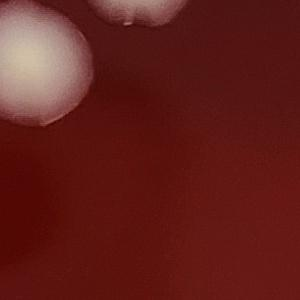colony: (0, 0, 99, 136), (79, 0, 197, 41)
